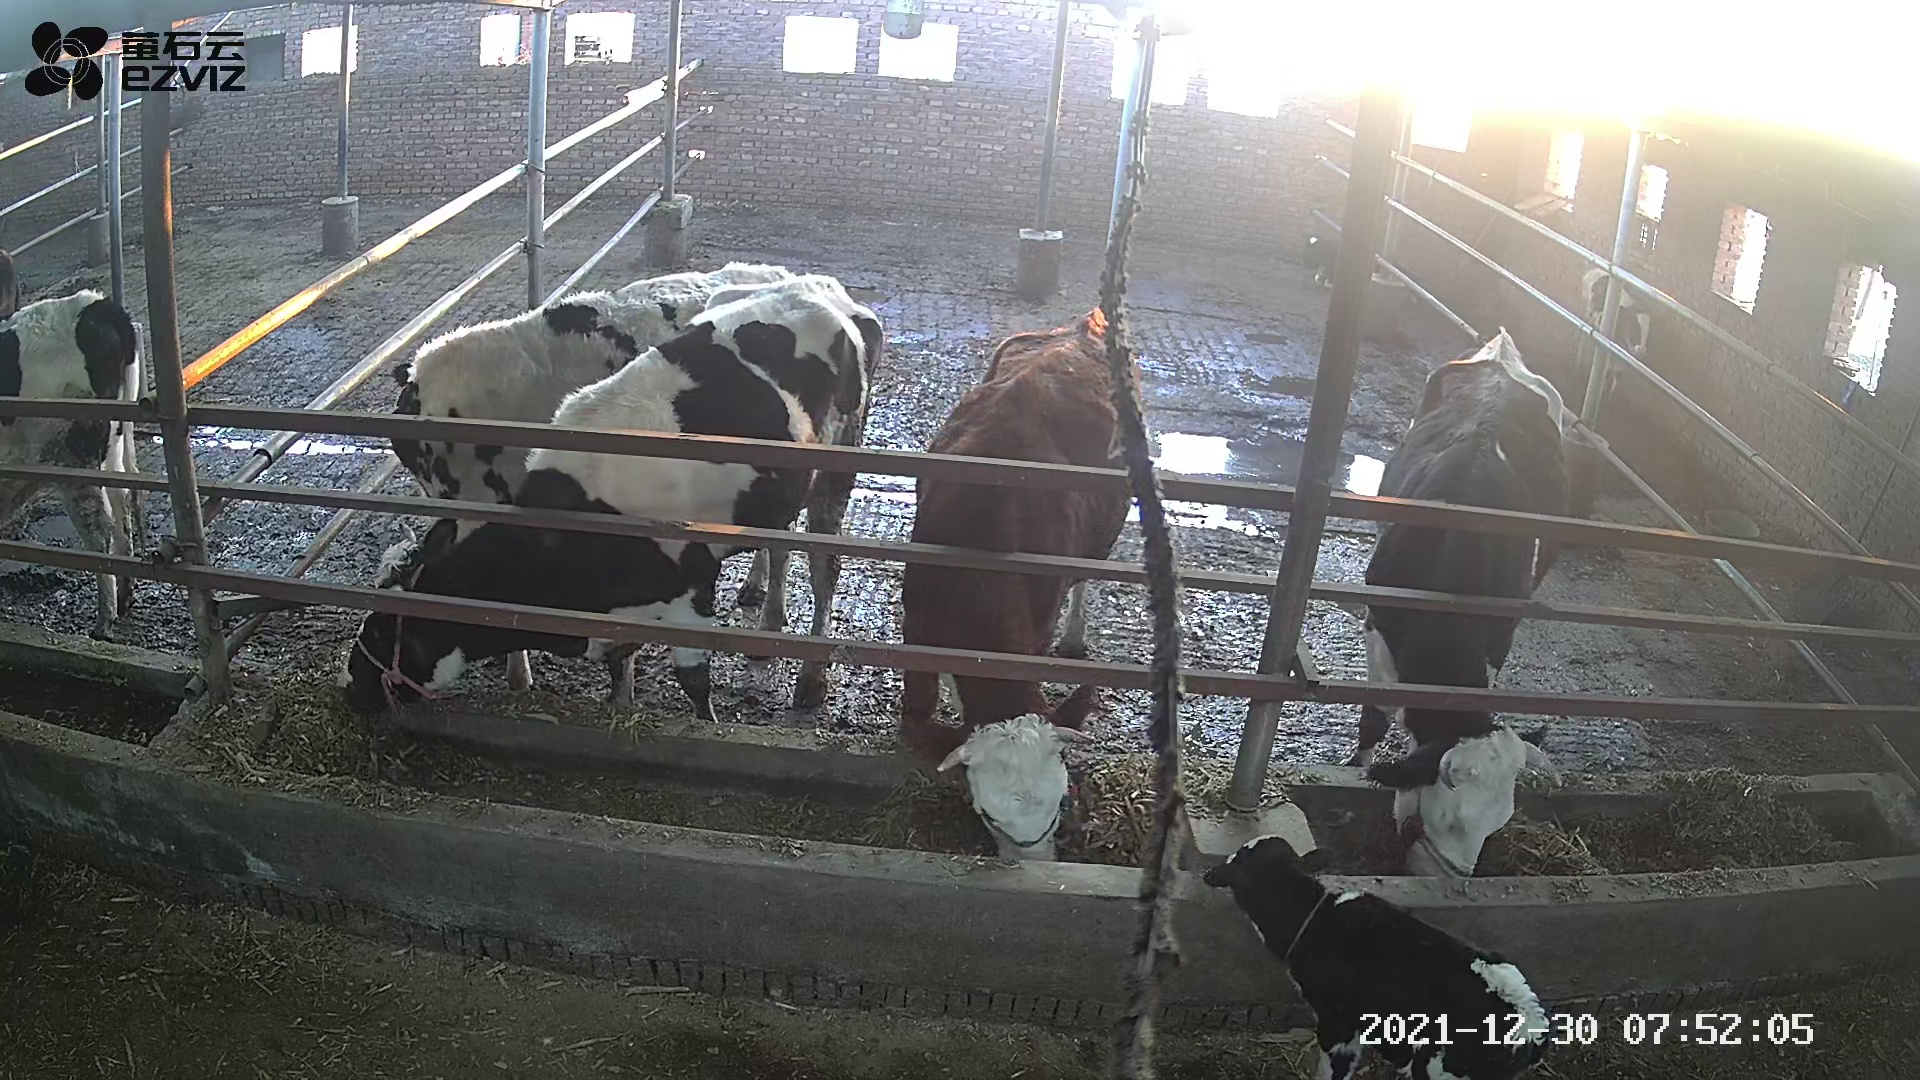cow: (345, 273, 882, 715), (386, 260, 798, 613), (899, 307, 1147, 862), (1338, 328, 1573, 876)
